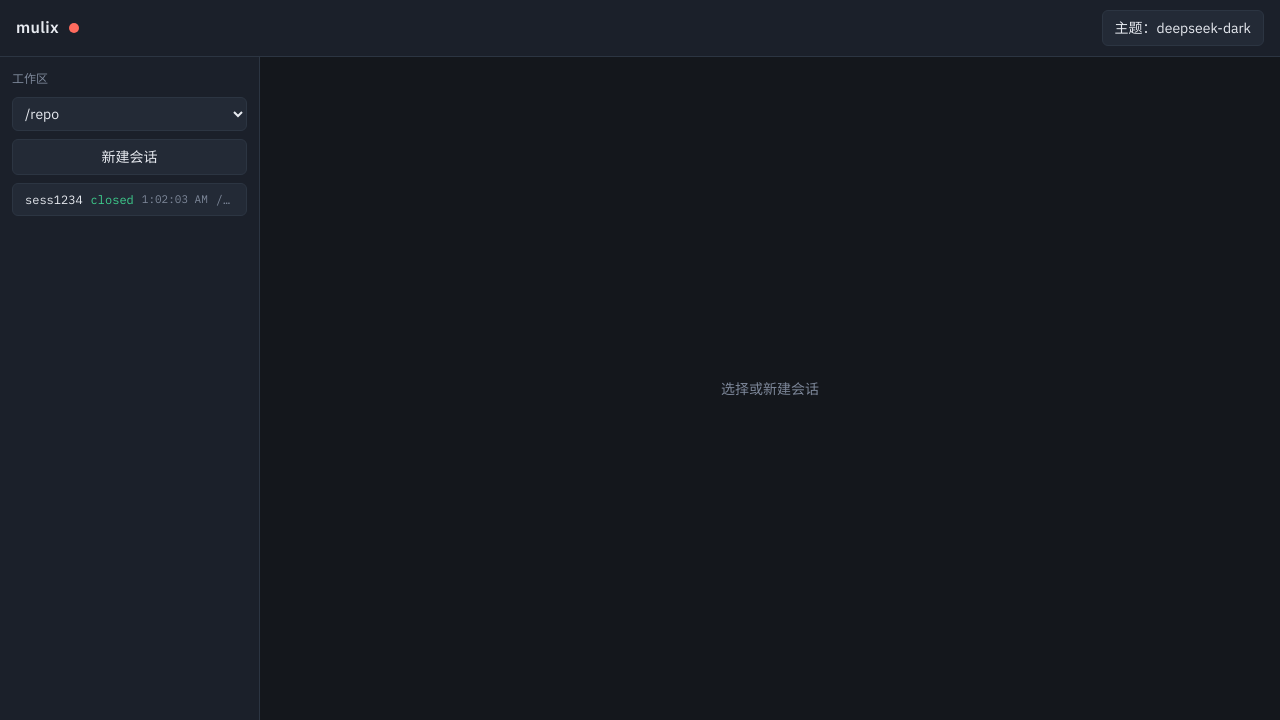
交互面（task-12） › 409 → 行内「回合未结束」提示，输入保留
The width and height of the screenshot is (1280, 720).
Click the button "sess1234 closed 1:02:03 AM /repo": (130, 200) top-left (12, 183), bottom-right (247, 216)
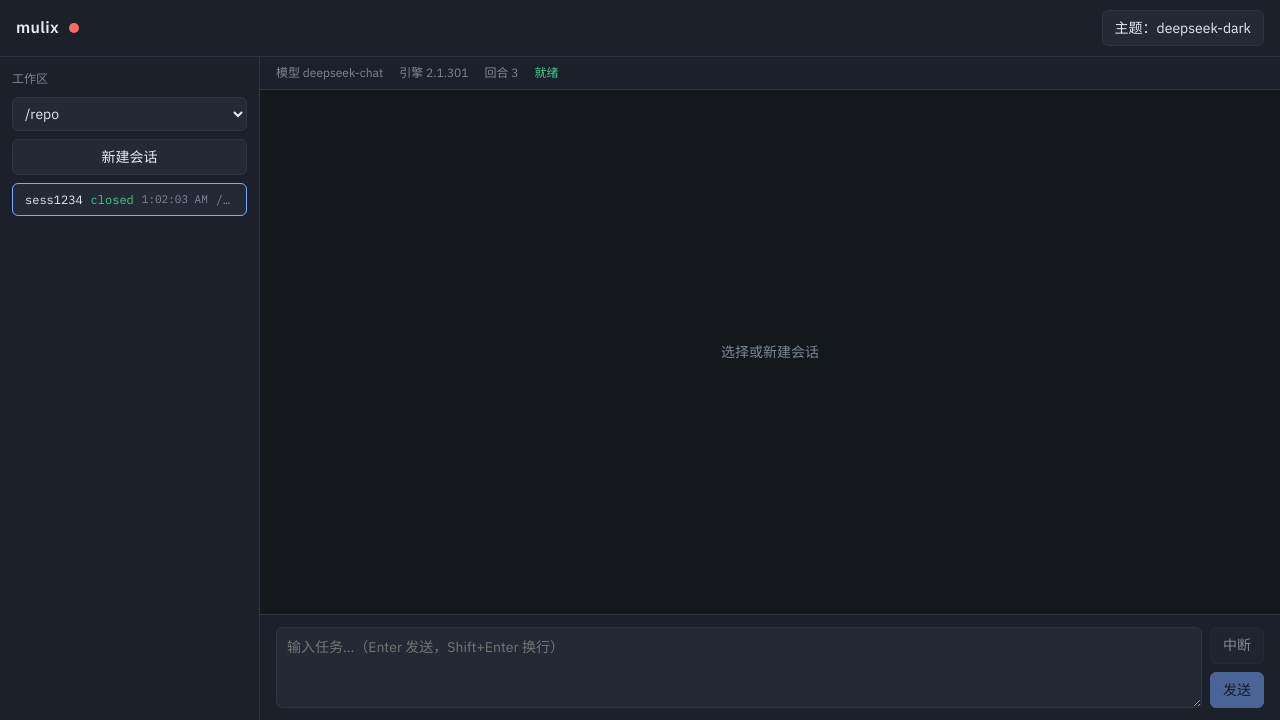
In the text box: (739, 668) top-left (276, 627), bottom-right (1202, 708), type "第二条任务"
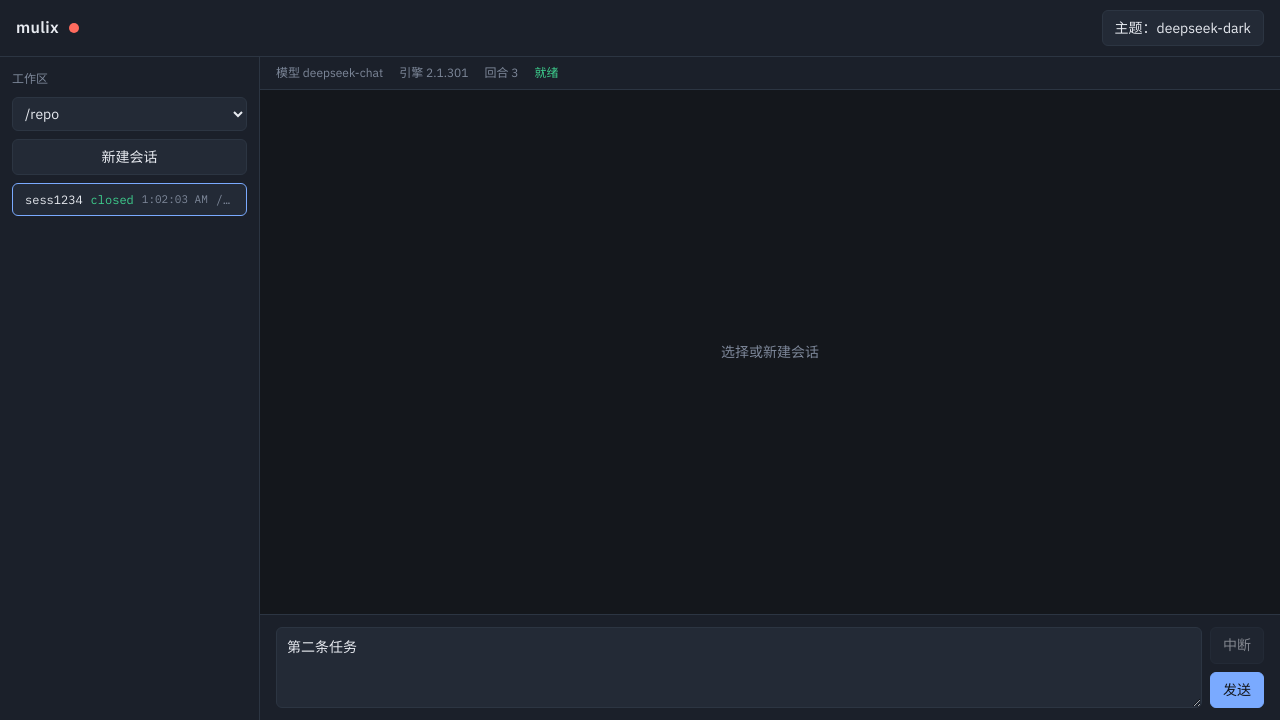
Click the button "发送": (1237, 690) top-left (1210, 672), bottom-right (1264, 708)
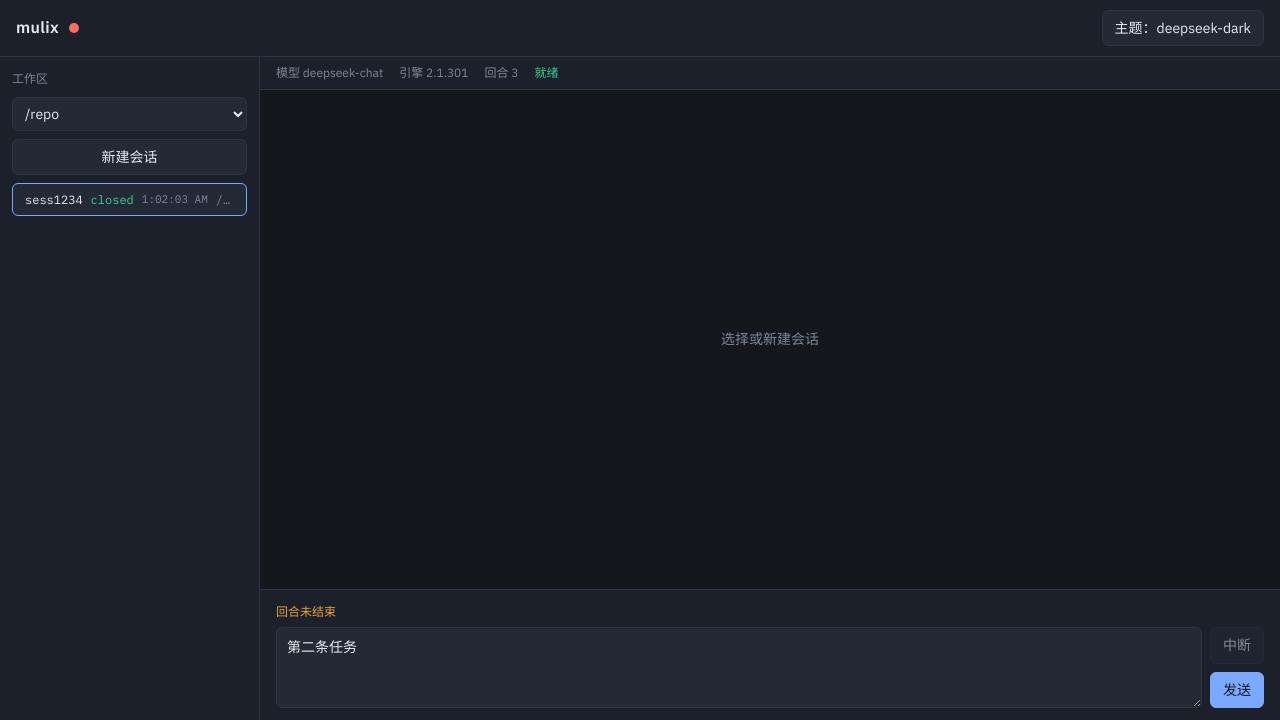
Check: the text "回合未结束" is shown, box top-left (276, 604), bottom-right (336, 619)
